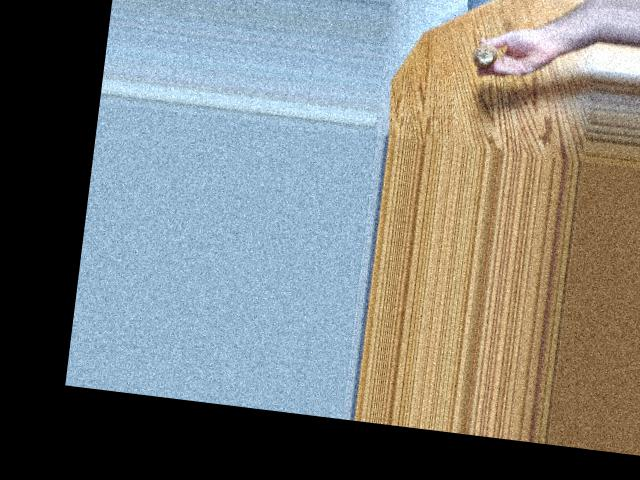sweet_potato: (466, 38, 499, 66)
